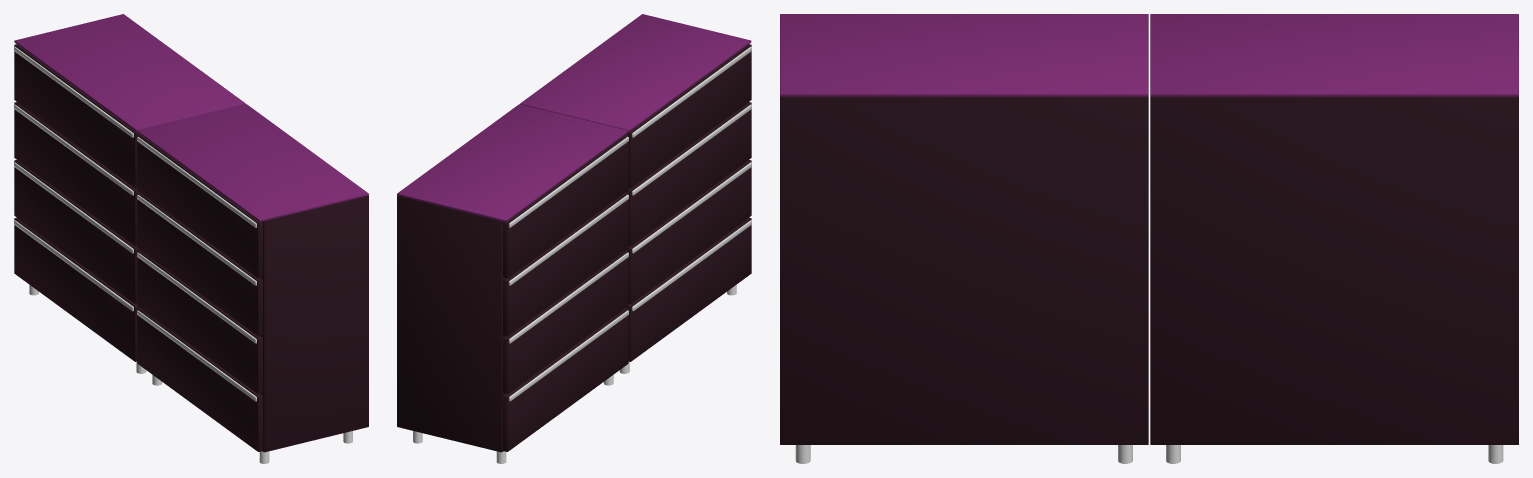
File: recI34i9CXTNRbNL6.glb
3 views of the same model, side by side, from view 1: azimuth 30°, elevation 25°; view 2: azimuth 150°, elevation 25°; view 3: azimuth 270°, elevation 25° (orthographic). The views are drawn at different scales.
Visible parts, largest first — view 1: buffet_aubergine_dressing_Corps; view 2: buffet_aubergine_dressing_Corps; view 3: buffet_aubergine_dressing_Corps.
Part boxes in pixels (x1=…): buffet_aubergine_dressing_Corps: x1=14, y1=14, x2=368, y2=463; buffet_aubergine_dressing_Corps: x1=397, y1=14, x2=751, y2=463; buffet_aubergine_dressing_Corps: x1=780, y1=14, x2=1518, y2=463.
Size of the model in its own units: 0.4201 by 0.9 by 1.6.
